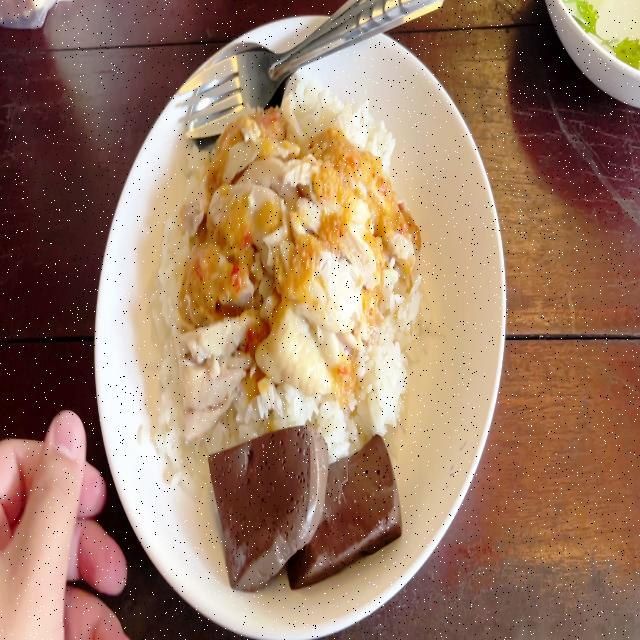boiled_chicken: (191, 106, 372, 412)
boiled_chicken_blood_jelly: (205, 422, 328, 575), (281, 436, 403, 571)
chicken_rice: (145, 82, 424, 578)
